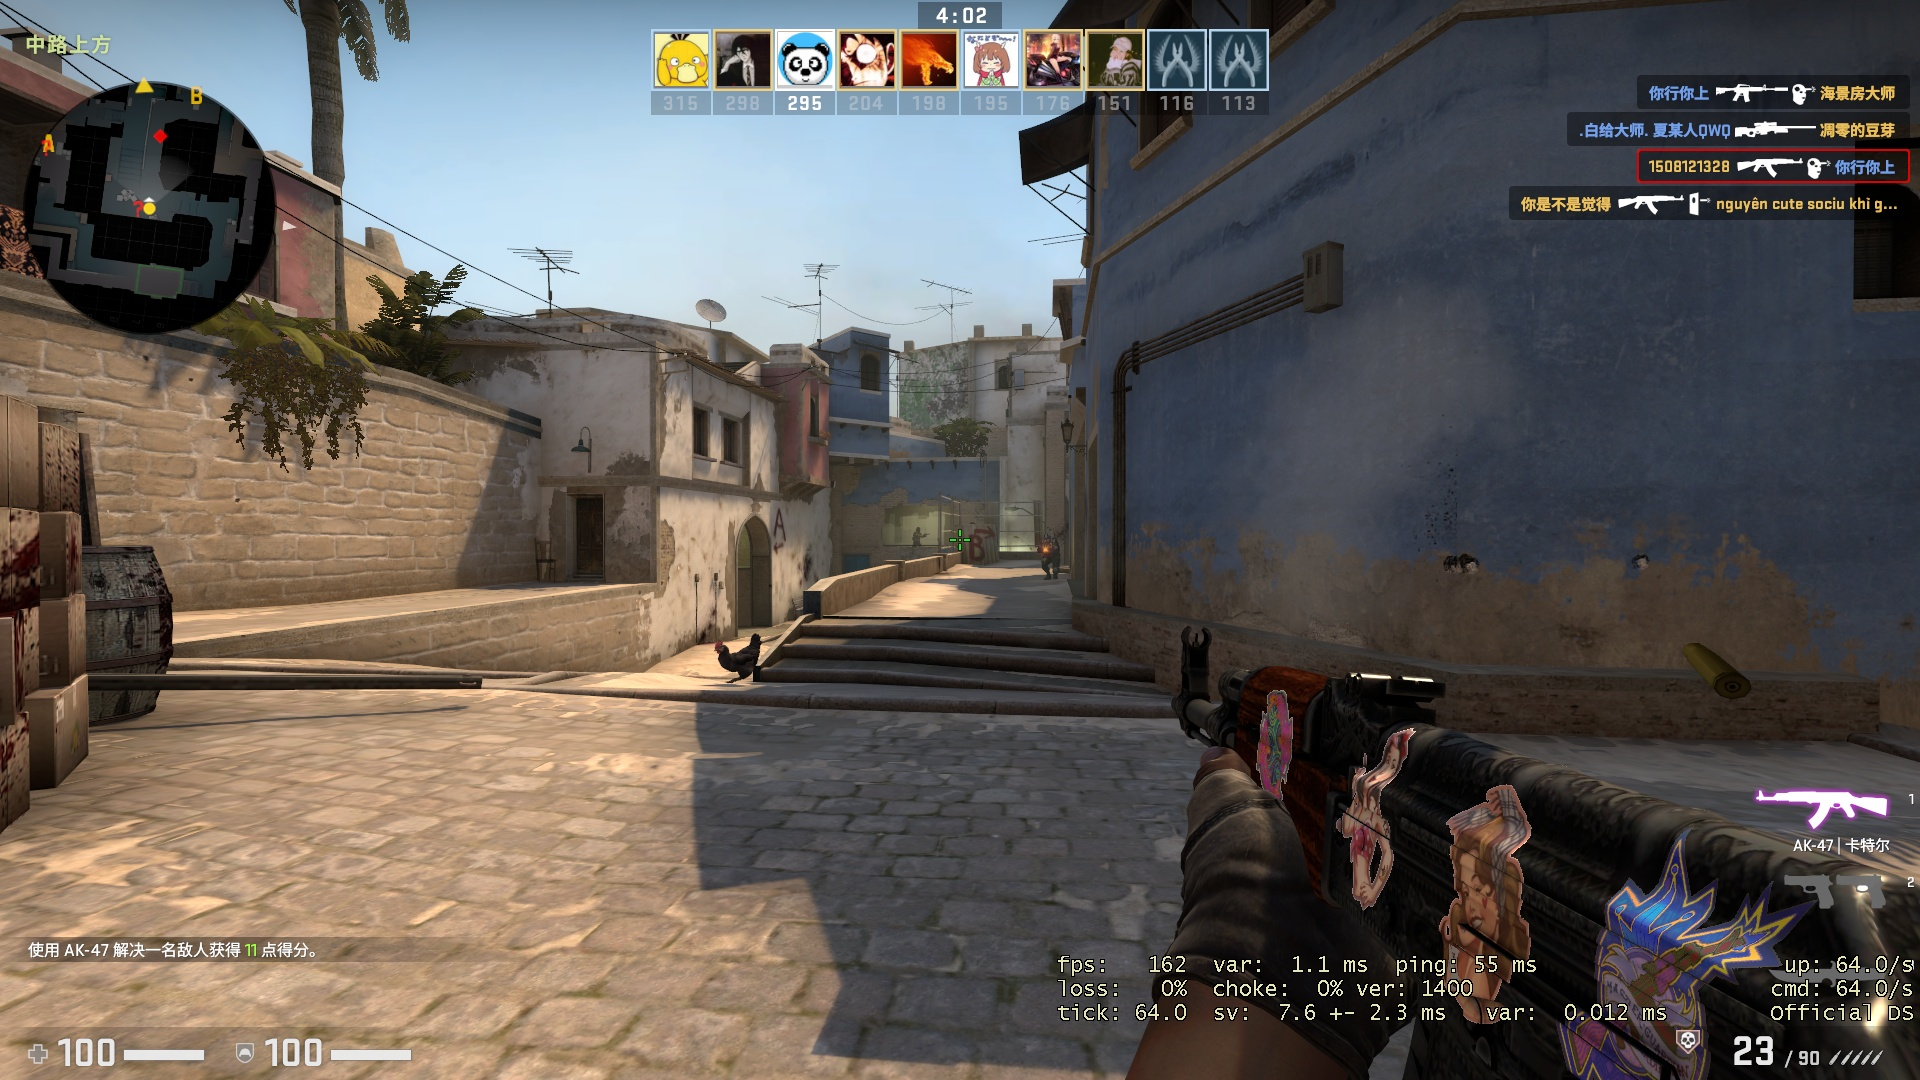body: (1037, 532, 1062, 581), (260, 136, 282, 190), (910, 526, 925, 546)
head: (1042, 532, 1052, 544), (265, 136, 274, 146), (915, 525, 922, 533)
